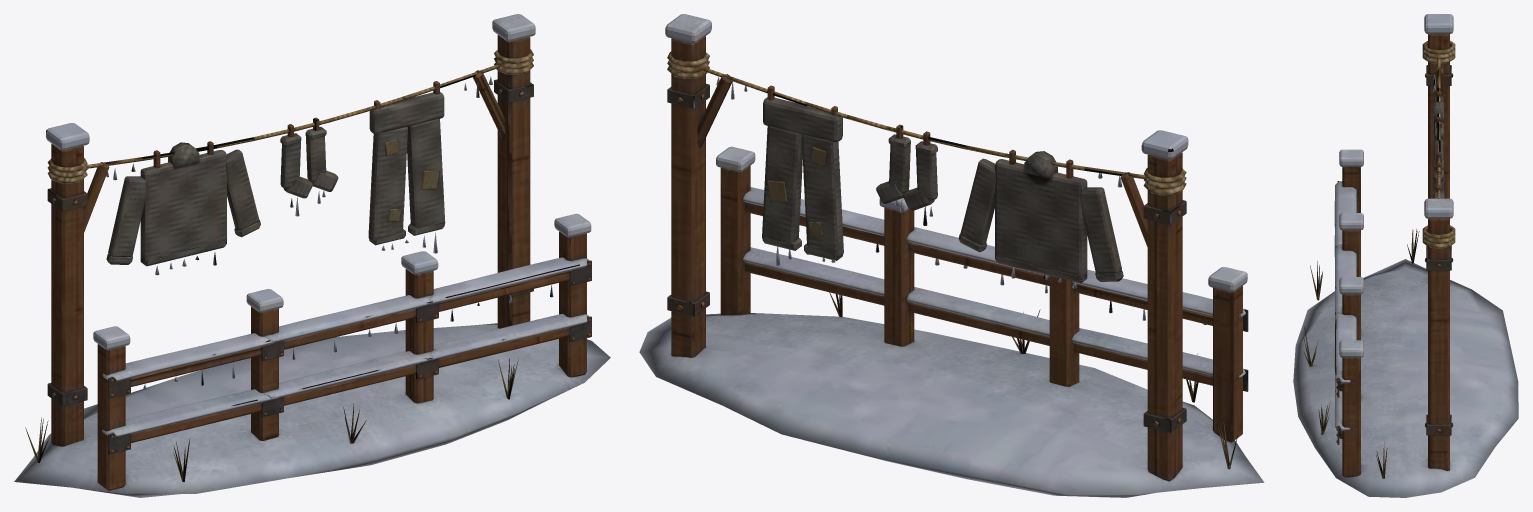
File: clothesline.glb
3 renders of one model, left to right at view 1: azimuth 30°, elevation 25°; view 2: azimuth 150°, elevation 25°; view 3: azimuth 270°, elevation 25°, orthographic. The views are drawn at different scales.
Visible parts, largest first — view 1: model; view 2: model; view 3: model.
Boxes of the visible parts, x1=… form: model: x1=14, y1=14, x2=610, y2=497; model: x1=639, y1=14, x2=1264, y2=497; model: x1=1293, y1=14, x2=1518, y2=497.
Size of the model in its own units: 3.88 by 2.19 by 1.55.
1 material, 1 textured.
